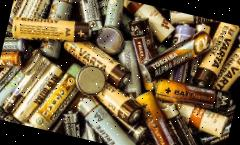electronic: (8, 6, 100, 58)
